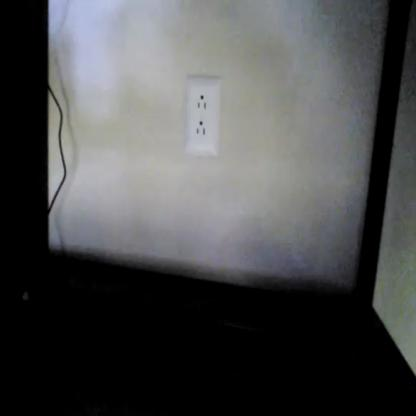OUTLET: (185, 80, 218, 156)
